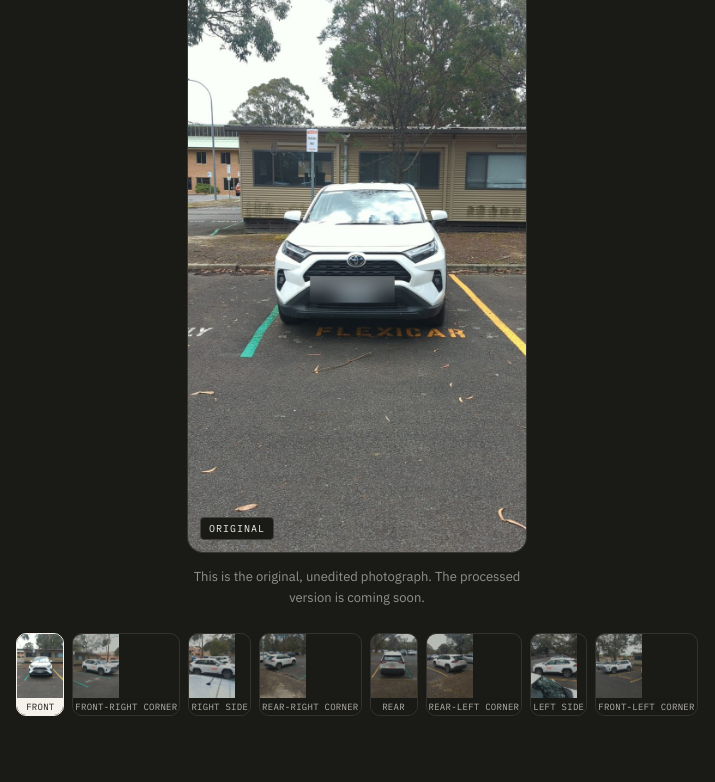
Test: RealPhotoShowcase › swaps the real photo shown when a different angle is picked
(page scrolled)
Step 1. Click the button "Rear" → [394, 674], box [370,633,418,716]
(page scrolled)
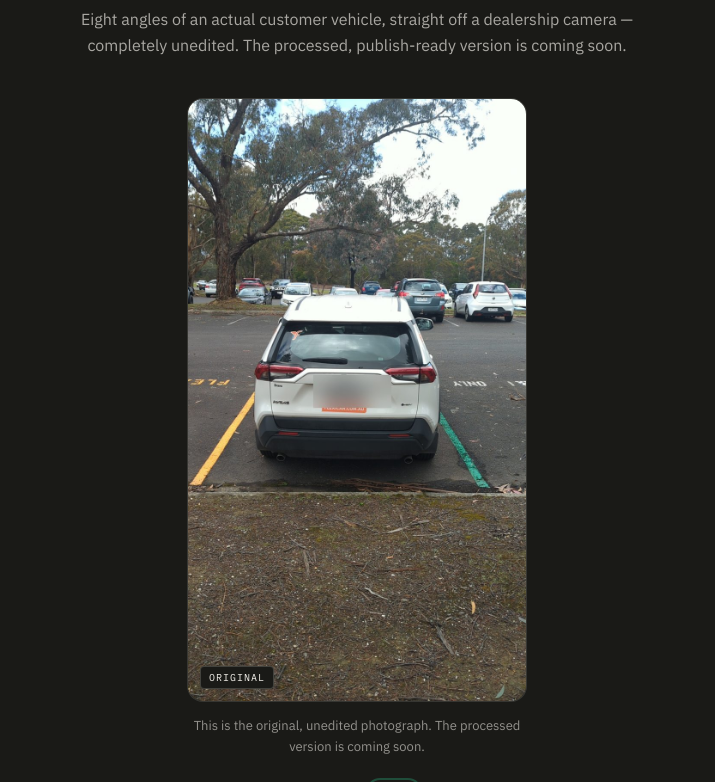
expect the button "front " is gone: met
